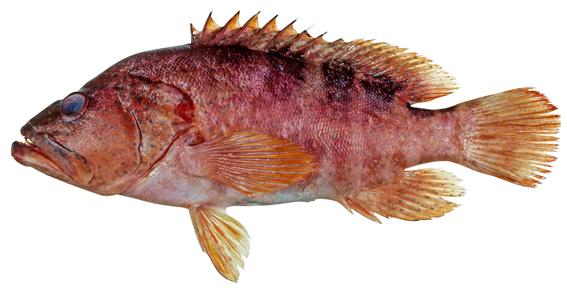fish: (11, 9, 560, 283)
